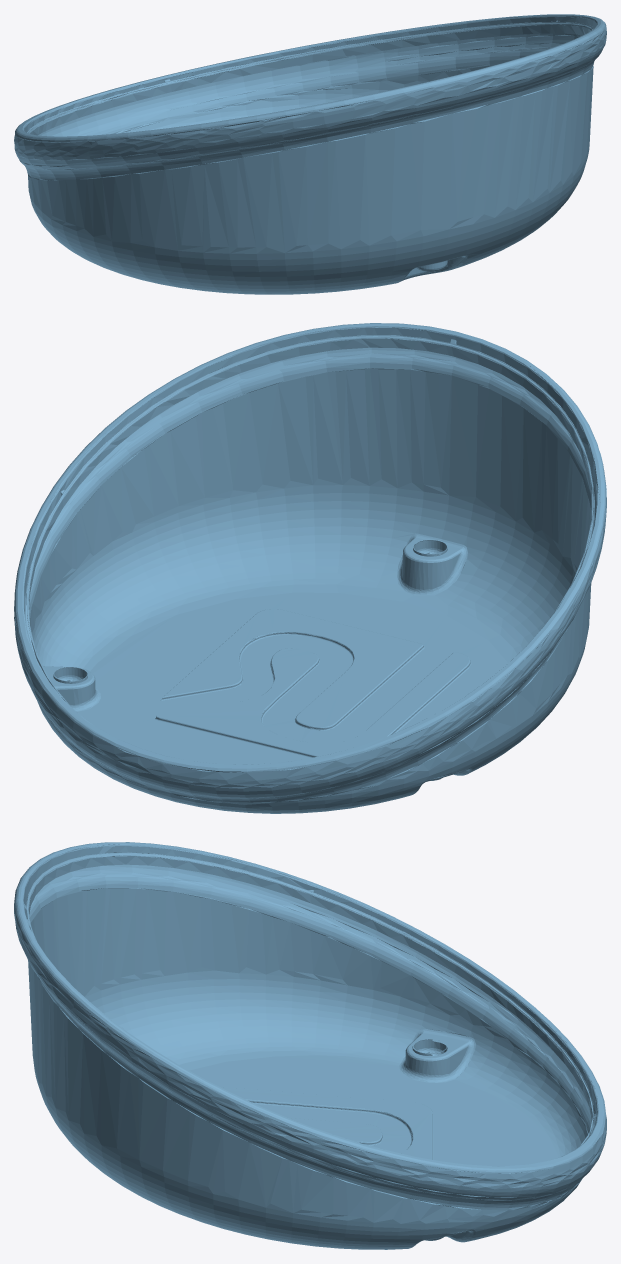
The model's file is forearm_URBlue.obj.
3 renders of one model, top to bottom at view 1: azimuth 30°, elevation 25°; view 2: azimuth 150°, elevation 25°; view 3: azimuth 270°, elevation 25°, orthographic.
Size of the model in its own units: 0.094 by 0.0471 by 0.094.
